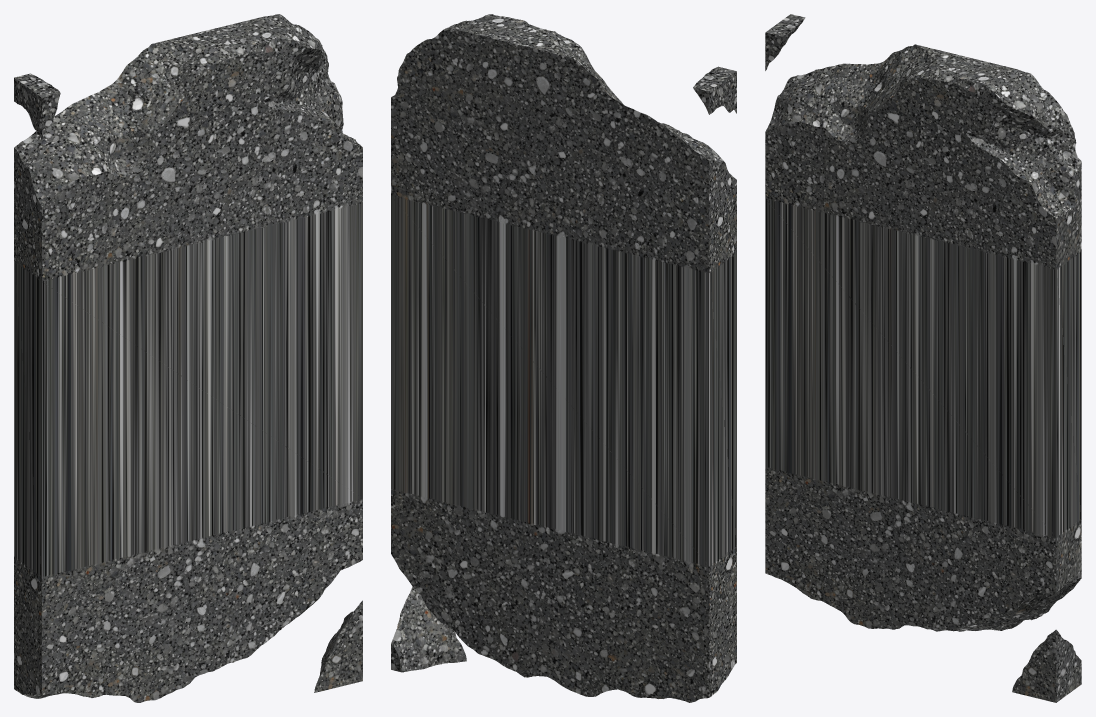
The model's file is Tablettte.glb.
3 views of the same model, side by side, from view 1: azimuth 30°, elevation 25°; view 2: azimuth 150°, elevation 25°; view 3: azimuth 330°, elevation 25° (orthographic). The views are drawn at different scales.
Parts seen in each view (by area): view 1: Cube.001; view 2: Cube.001; view 3: Cube.001.
Boxes of the visible parts, x1=… form: Cube.001: x1=14, y1=14, x2=362, y2=702; Cube.001: x1=391, y1=14, x2=736, y2=702; Cube.001: x1=765, y1=14, x2=1081, y2=702.
Bounding box in the file's own units: 1.03 × 2.02 × 0.1549.
1 material, 1 textured.
